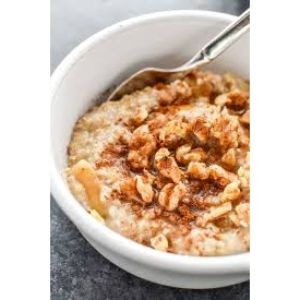oat_brain food: (116, 84, 241, 210)
